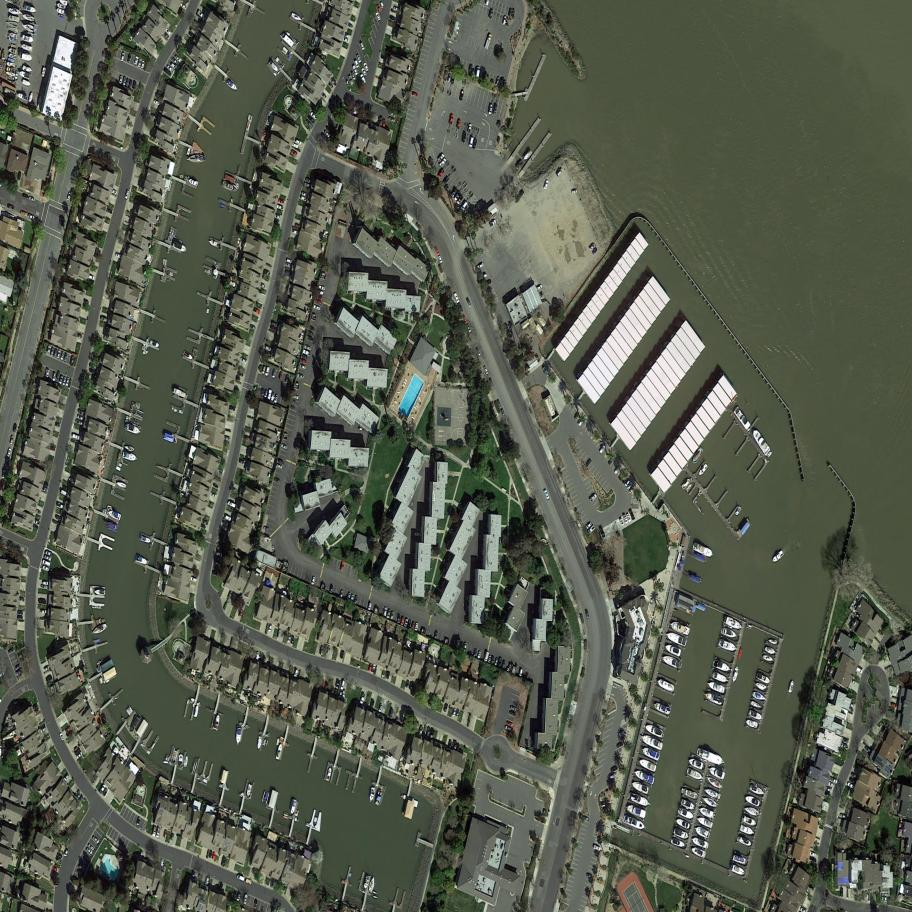large-vehicle: (484, 33, 493, 50)
ship: (749, 426, 773, 457), (694, 746, 727, 767), (732, 405, 753, 432), (626, 791, 654, 810), (621, 814, 649, 832), (691, 542, 716, 560), (632, 768, 657, 786), (664, 630, 689, 648), (640, 733, 665, 751), (668, 619, 692, 637), (624, 803, 648, 820), (716, 637, 739, 654), (722, 615, 745, 632), (643, 722, 666, 739), (660, 653, 683, 670), (703, 690, 725, 707), (711, 658, 733, 675), (637, 757, 659, 774), (640, 745, 662, 762), (684, 767, 706, 783), (655, 678, 677, 694), (710, 670, 731, 686), (630, 779, 651, 795), (651, 700, 672, 716), (705, 680, 727, 695), (689, 446, 706, 465), (719, 626, 739, 642), (676, 806, 696, 822), (690, 835, 711, 850), (680, 787, 701, 802), (693, 824, 712, 840), (705, 776, 725, 791), (707, 765, 727, 780), (678, 797, 698, 812), (123, 422, 143, 437), (686, 756, 705, 771), (748, 783, 767, 798), (728, 863, 748, 877), (695, 815, 715, 829), (731, 853, 750, 867), (738, 823, 757, 837), (740, 814, 759, 828), (672, 827, 691, 841), (664, 643, 683, 657), (770, 548, 786, 564), (703, 786, 721, 800), (744, 794, 762, 808), (743, 804, 761, 818), (171, 240, 189, 254), (90, 623, 109, 636), (221, 180, 240, 193), (701, 795, 719, 808), (674, 817, 692, 830), (121, 450, 139, 463), (735, 836, 754, 848), (225, 79, 240, 94), (690, 846, 707, 859), (698, 806, 715, 819), (755, 672, 772, 685), (747, 709, 764, 722), (186, 154, 207, 164), (751, 690, 767, 703), (670, 837, 687, 849), (17, 51, 34, 63), (21, 22, 38, 34), (521, 148, 535, 162), (268, 59, 281, 74), (107, 509, 123, 521), (171, 388, 188, 399), (367, 876, 377, 894), (7, 7, 23, 18), (20, 12, 36, 23), (697, 463, 709, 477), (754, 680, 768, 692), (763, 645, 778, 656), (761, 653, 776, 664), (749, 700, 764, 711), (134, 555, 149, 566), (104, 521, 119, 532), (23, 4, 38, 15), (17, 69, 32, 80), (289, 798, 298, 816), (375, 787, 383, 807), (680, 477, 692, 490), (745, 718, 759, 729), (290, 12, 304, 23), (213, 715, 222, 732), (20, 34, 35, 44), (235, 725, 242, 746), (731, 667, 740, 683), (368, 787, 376, 804), (140, 535, 153, 545), (207, 238, 220, 248), (182, 351, 195, 361), (325, 767, 333, 783), (20, 43, 34, 52), (684, 482, 694, 494), (187, 177, 199, 187), (149, 339, 161, 349), (115, 480, 127, 490), (276, 743, 283, 760), (363, 874, 370, 891), (16, 92, 29, 101), (736, 647, 744, 661), (788, 679, 795, 695), (256, 735, 263, 751), (193, 703, 200, 719), (8, 31, 20, 40), (767, 637, 779, 646), (21, 65, 33, 74), (124, 444, 136, 453), (21, 79, 32, 88), (246, 783, 253, 797), (183, 755, 190, 768), (55, 7, 66, 15), (56, 2, 67, 10), (27, 92, 34, 104), (8, 47, 18, 55), (93, 589, 106, 595), (5, 70, 16, 77), (8, 52, 17, 60), (172, 750, 178, 762), (6, 61, 16, 68), (186, 147, 192, 156), (2, 49, 6, 61), (38, 96, 42, 107)
small-vehicle: (541, 366, 552, 379), (195, 9, 207, 20), (514, 158, 525, 170), (455, 194, 465, 206), (441, 174, 451, 186), (359, 73, 368, 86), (587, 525, 597, 535), (606, 456, 616, 466), (304, 118, 314, 128), (306, 114, 316, 124), (309, 111, 319, 121), (64, 725, 74, 735), (84, 846, 94, 856), (226, 500, 237, 509), (598, 444, 607, 455), (612, 465, 621, 476), (625, 481, 634, 492), (236, 873, 247, 882), (453, 191, 462, 202), (450, 187, 459, 198), (439, 157, 448, 168), (543, 489, 551, 501), (599, 527, 607, 539), (374, 11, 382, 23), (98, 783, 106, 795), (458, 88, 465, 101), (460, 130, 467, 143), (59, 489, 69, 498), (189, 26, 198, 36), (162, 67, 172, 76), (588, 242, 597, 252), (620, 475, 629, 485), (289, 148, 299, 157), (320, 133, 330, 142), (91, 835, 101, 844), (488, 219, 498, 228), (460, 201, 469, 211), (828, 777, 839, 785), (628, 510, 636, 521), (44, 367, 51, 379), (417, 725, 424, 737), (359, 693, 366, 705), (339, 679, 346, 691), (466, 297, 473, 309), (453, 292, 460, 304), (354, 58, 361, 70), (151, 826, 158, 838), (468, 136, 475, 148), (448, 113, 455, 125), (166, 64, 175, 73), (577, 418, 586, 427), (623, 479, 632, 488), (75, 751, 84, 760), (437, 153, 446, 162), (56, 503, 66, 511), (75, 414, 85, 422), (39, 485, 49, 493), (164, 27, 172, 37), (88, 362, 98, 370), (77, 408, 87, 416), (6, 647, 16, 655), (14, 668, 24, 676), (276, 458, 286, 466), (238, 458, 248, 466), (592, 844, 602, 852), (581, 815, 591, 823), (846, 782, 856, 790), (591, 247, 599, 257), (588, 494, 598, 502), (585, 458, 593, 468), (628, 485, 636, 495), (360, 67, 368, 77), (341, 31, 351, 39), (252, 307, 262, 315), (437, 169, 445, 179), (58, 731, 65, 742), (457, 302, 464, 313), (495, 398, 502, 409), (348, 75, 355, 86), (352, 65, 359, 76), (488, 8, 495, 19), (378, 116, 385, 127), (375, 3, 382, 14), (135, 816, 142, 827), (266, 389, 273, 400), (171, 56, 179, 65), (52, 420, 61, 428), (41, 479, 50, 487), (45, 675, 54, 683), (43, 554, 52, 562), (179, 2, 188, 10), (27, 213, 36, 221), (14, 663, 22, 672), (497, 657, 503, 669), (224, 514, 233, 522), (273, 476, 282, 484), (339, 561, 345, 573), (877, 628, 885, 637), (824, 786, 833, 794), (851, 772, 860, 780), (849, 777, 858, 785), (864, 745, 873, 753), (585, 522, 594, 530), (556, 168, 564, 177), (573, 411, 581, 420), (363, 61, 369, 73), (291, 141, 300, 149), (294, 138, 303, 146), (330, 78, 339, 86), (77, 795, 85, 804), (75, 792, 83, 801), (39, 726, 48, 734), (221, 856, 227, 868), (155, 827, 161, 839), (492, 104, 498, 116), (443, 69, 449, 81), (302, 349, 311, 357), (270, 321, 279, 329), (248, 323, 257, 331), (290, 398, 299, 406), (139, 60, 146, 70), (47, 445, 57, 452), (41, 559, 51, 566), (19, 210, 29, 217), (6, 203, 16, 210), (55, 350, 62, 360), (213, 561, 223, 568), (189, 576, 199, 583), (488, 378, 495, 388), (387, 116, 397, 123), (350, 71, 357, 81), (356, 54, 363, 64), (359, 41, 366, 51), (102, 788, 109, 798), (126, 52, 132, 63), (3, 458, 9, 469), (6, 447, 12, 458), (69, 355, 75, 366), (59, 351, 65, 362), (52, 348, 58, 359), (425, 728, 431, 739), (389, 708, 395, 719), (462, 642, 468, 653), (495, 75, 501, 86), (381, 118, 387, 129), (456, 118, 462, 129), (174, 54, 182, 62), (169, 61, 177, 69), (323, 130, 331, 138), (51, 864, 59, 872), (63, 774, 71, 782), (33, 707, 41, 715), (31, 702, 39, 710), (87, 843, 95, 851), (264, 345, 272, 353), (274, 213, 282, 221), (153, 99, 162, 106), (74, 419, 83, 426), (42, 665, 51, 672), (54, 515, 63, 522), (41, 565, 50, 572), (45, 550, 54, 557), (33, 519, 42, 526), (20, 192, 29, 199), (150, 114, 159, 121), (163, 31, 170, 40), (100, 316, 109, 323), (88, 368, 97, 375), (839, 813, 848, 820), (201, 519, 210, 526), (237, 609, 244, 618), (215, 551, 224, 558), (262, 525, 271, 532), (275, 463, 284, 470), (840, 743, 849, 750), (535, 284, 544, 291), (475, 348, 482, 357), (223, 435, 232, 442), (411, 91, 420, 98), (54, 855, 63, 862), (301, 353, 310, 360), (307, 325, 316, 332), (306, 329, 315, 336), (269, 326, 278, 333), (300, 358, 309, 365), (296, 373, 305, 380), (292, 393, 301, 400), (239, 356, 248, 363), (314, 298, 323, 305), (316, 289, 325, 296), (277, 198, 286, 205), (303, 182, 312, 189), (291, 229, 300, 236), (134, 55, 139, 67), (9, 435, 15, 445), (61, 376, 67, 386), (51, 372, 57, 382), (124, 190, 130, 200), (371, 663, 377, 673), (333, 688, 339, 698), (472, 648, 478, 658), (406, 619, 412, 629), (293, 669, 299, 679), (353, 595, 359, 605), (400, 616, 406, 626), (623, 514, 629, 524), (626, 513, 632, 523), (462, 315, 468, 325), (543, 180, 549, 190), (386, 609, 392, 619), (500, 409, 506, 419), (489, 103, 494, 115), (63, 848, 69, 858), (236, 892, 242, 902), (273, 394, 279, 404), (270, 392, 276, 402), (284, 374, 290, 384), (271, 369, 277, 379), (472, 137, 477, 149), (467, 123, 473, 133), (434, 246, 440, 256), (317, 285, 327, 291), (17, 596, 25, 603), (110, 189, 118, 196), (115, 252, 123, 259), (87, 274, 95, 281), (505, 725, 513, 732), (281, 443, 289, 450), (586, 872, 594, 879), (609, 773, 617, 780), (610, 766, 618, 773), (856, 667, 864, 674), (808, 883, 815, 891), (809, 856, 817, 863), (209, 491, 217, 498), (212, 482, 220, 489), (342, 36, 350, 43), (56, 851, 64, 858), (228, 405, 236, 412), (299, 363, 307, 370), (259, 282, 267, 289), (263, 269, 271, 276), (289, 404, 297, 411), (477, 263, 485, 270), (304, 177, 312, 184), (137, 57, 142, 68), (475, 67, 480, 78), (65, 377, 70, 388), (370, 699, 375, 710), (329, 583, 334, 594), (339, 588, 344, 599), (346, 591, 351, 602), (447, 72, 452, 83), (502, 15, 507, 26), (243, 894, 248, 905), (253, 898, 258, 909), (58, 376, 64, 385), (66, 192, 72, 201), (75, 333, 84, 339), (12, 423, 18, 432), (414, 623, 420, 632), (338, 690, 344, 699), (241, 600, 247, 609), (335, 679, 341, 688), (890, 702, 899, 708), (619, 518, 625, 527), (389, 611, 395, 620), (466, 324, 472, 333), (483, 366, 489, 375), (303, 345, 312, 351), (283, 269, 292, 275), (261, 366, 267, 375), (438, 255, 444, 264), (276, 205, 285, 211), (122, 76, 127, 86), (1, 469, 6, 479), (63, 353, 68, 363), (46, 345, 51, 355), (50, 347, 55, 357), (452, 707, 457, 717), (409, 680, 414, 690), (368, 663, 373, 673), (456, 640, 461, 650), (494, 657, 499, 667), (311, 575, 316, 585), (321, 680, 326, 690), (326, 645, 331, 655), (319, 646, 324, 656), (290, 634, 295, 644), (255, 651, 260, 661), (383, 607, 388, 617), (468, 64, 473, 74), (508, 7, 513, 17), (159, 859, 164, 869), (232, 890, 237, 900), (163, 828, 168, 838), (208, 849, 213, 859), (265, 366, 270, 376), (237, 371, 244, 378), (118, 76, 124, 84), (72, 434, 80, 440), (40, 584, 48, 590), (28, 196, 36, 202), (509, 711, 517, 717), (410, 622, 416, 630), (476, 651, 482, 659), (510, 705, 518, 711), (841, 738, 849, 744), (809, 851, 817, 857), (828, 782, 836, 788), (393, 6, 401, 12), (138, 851, 144, 859), (306, 335, 314, 341), (313, 305, 321, 311), (315, 295, 323, 301), (300, 196, 308, 202), (293, 223, 301, 229), (285, 258, 293, 264), (120, 52, 125, 61), (128, 79, 133, 88), (132, 80, 137, 89), (17, 172, 22, 181), (405, 679, 410, 688), (378, 704, 383, 713), (501, 661, 506, 670), (525, 671, 530, 680), (330, 686, 335, 695), (268, 623, 273, 632), (368, 602, 373, 611), (404, 618, 409, 627), (396, 615, 401, 624), (585, 610, 590, 619), (212, 851, 217, 860), (170, 833, 175, 842), (191, 871, 196, 880), (264, 389, 269, 398), (260, 387, 265, 396), (506, 721, 513, 727), (850, 679, 857, 685), (285, 262, 292, 268), (16, 610, 24, 615), (56, 370, 60, 380), (444, 703, 448, 713), (287, 635, 292, 643), (350, 594, 354, 604), (414, 532, 422, 537), (279, 371, 283, 381), (125, 78, 129, 87), (456, 708, 460, 717), (434, 631, 438, 640), (519, 668, 523, 677), (278, 629, 282, 638), (340, 650, 344, 659), (825, 890, 829, 899), (205, 877, 209, 886), (40, 609, 47, 614), (571, 189, 578, 194), (301, 192, 308, 197), (15, 615, 23, 619), (488, 655, 492, 663), (39, 599, 46, 603), (42, 581, 49, 585), (840, 888, 843, 897), (884, 894, 887, 902), (881, 893, 884, 901)
